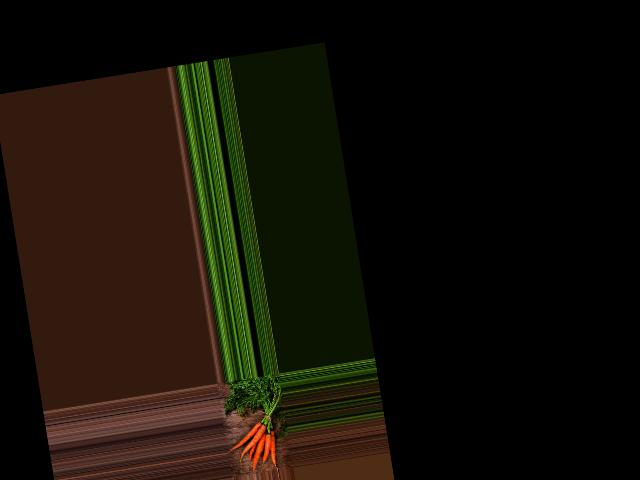carrot: (256, 428, 279, 463)
